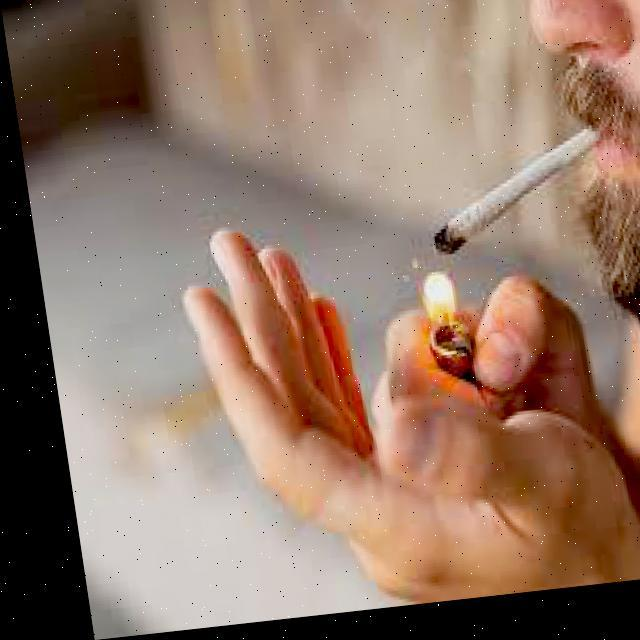Fire: (392, 267, 448, 335)
